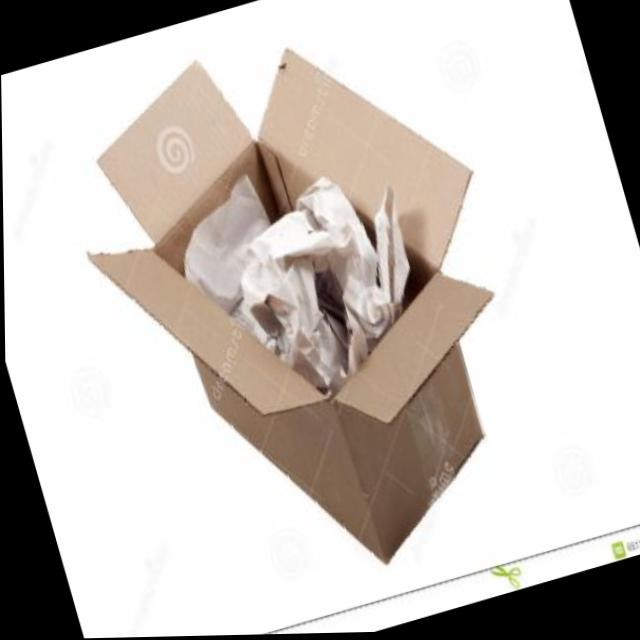box: (23, 0, 581, 640)
